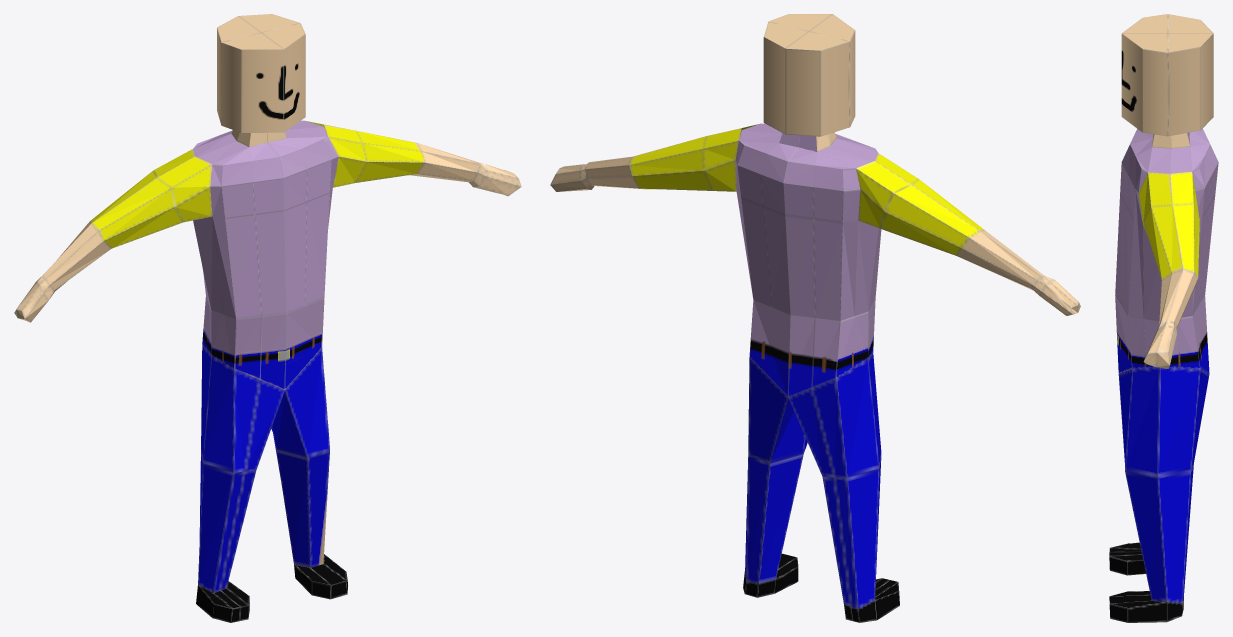
Rendered from playerdeadmen.fbx.
3 views of the same model, side by side, from view 1: azimuth 30°, elevation 25°; view 2: azimuth 150°, elevation 25°; view 3: azimuth 270°, elevation 25° (orthographic). The views are drawn at different scales.
Parts seen in each view (by area): view 1: pCube1, pCube2; view 2: pCube1, pCube2; view 3: pCube1, pCube2.
Boxes of the visible parts, x1,y1,x2,y2 form: pCube1: (14, 120, 521, 622); pCube2: (217, 14, 305, 132); pCube1: (550, 123, 1080, 622); pCube2: (763, 14, 855, 136); pCube1: (1109, 128, 1218, 622); pCube2: (1121, 14, 1213, 136).
Size of the model in its own units: 7.16 by 7.56 by 1.34.
